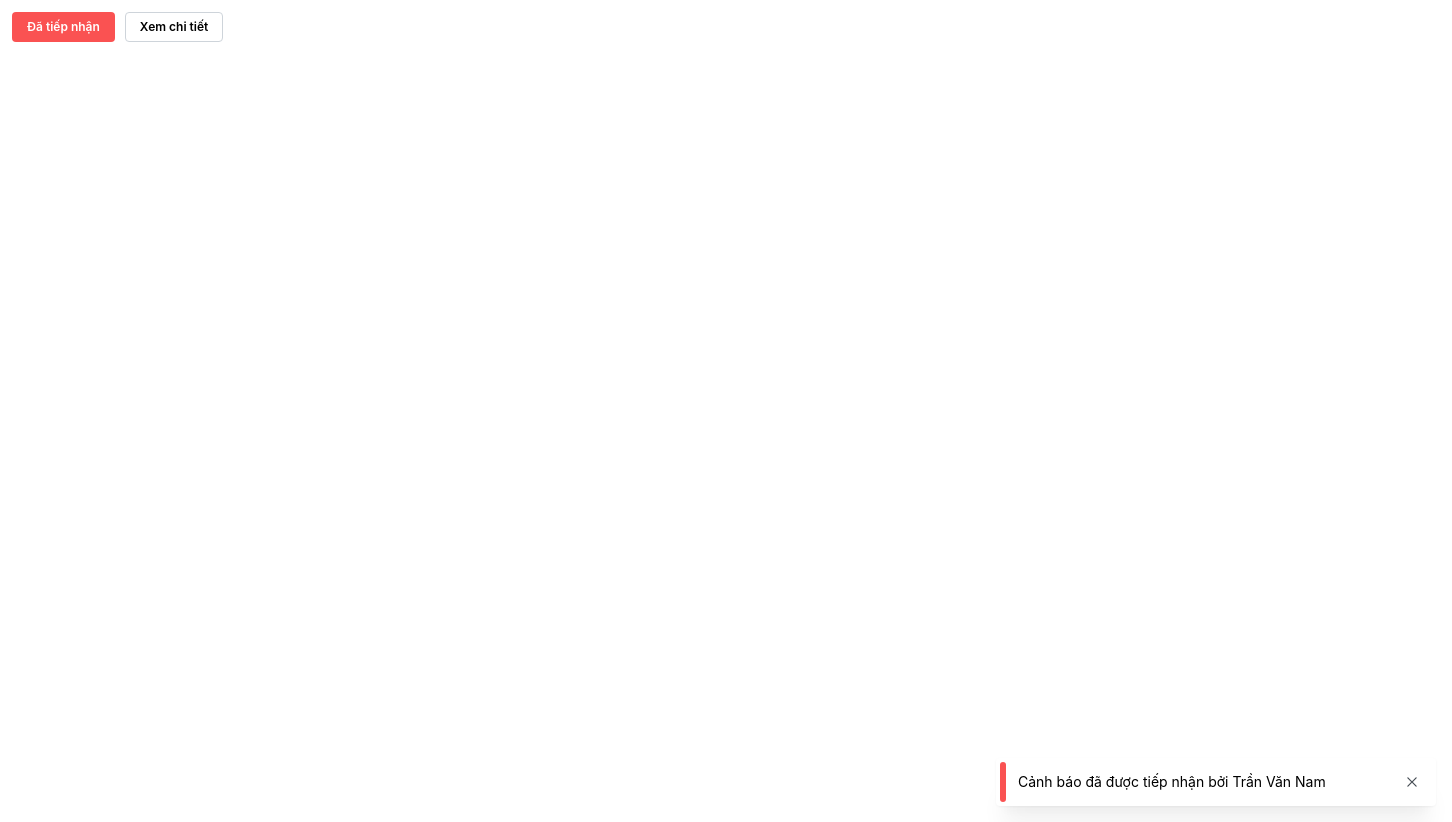
Test: AlertActions › shows forbidden message on 403
Click the button "Đã tiếp nhận": (63, 27) top-left (12, 12), bottom-right (115, 42)
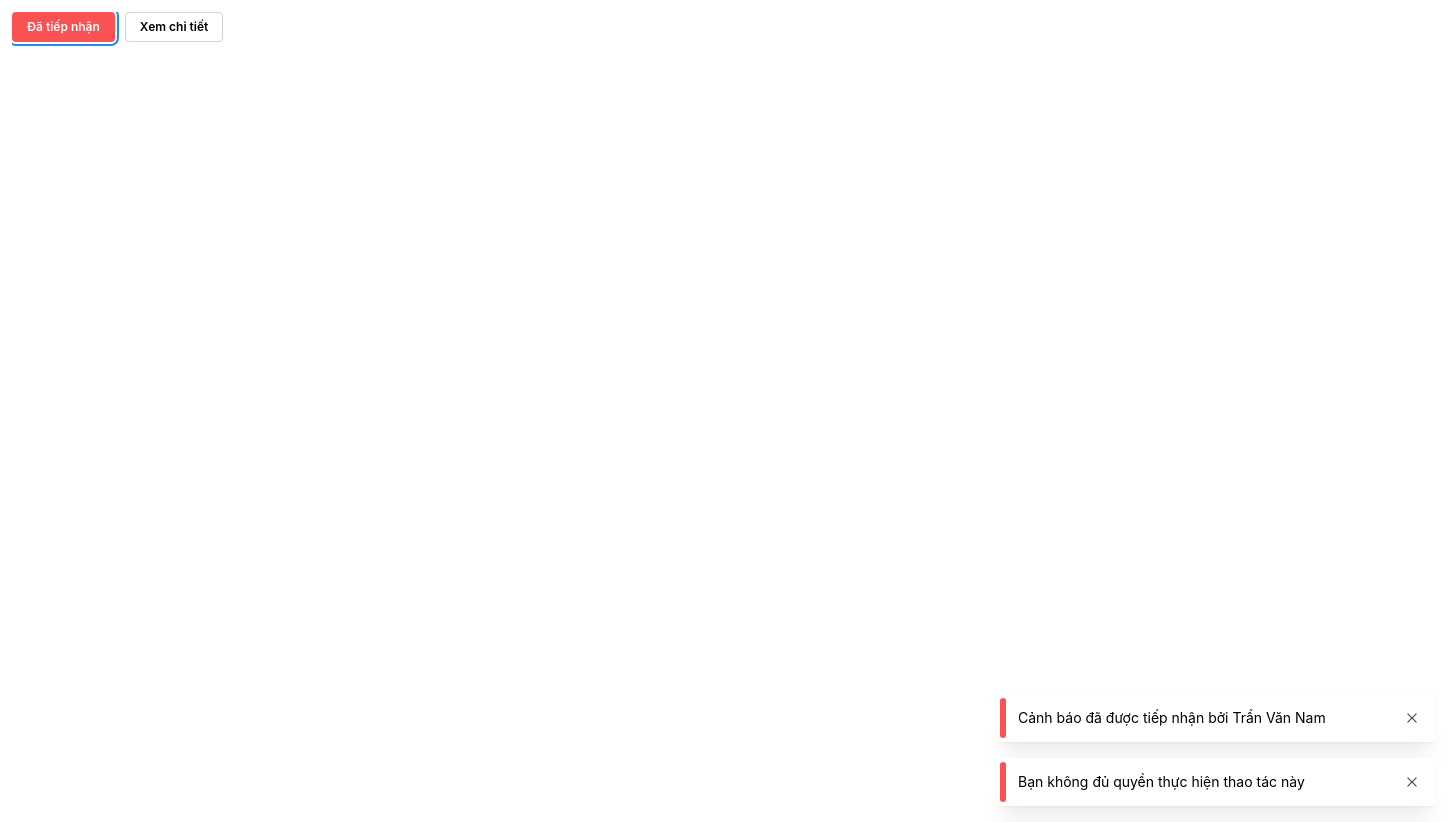
Expected: the text "Bạn không đủ quyền thực hiện thao tác này" is shown, top-left (1018, 773), bottom-right (1305, 790)
